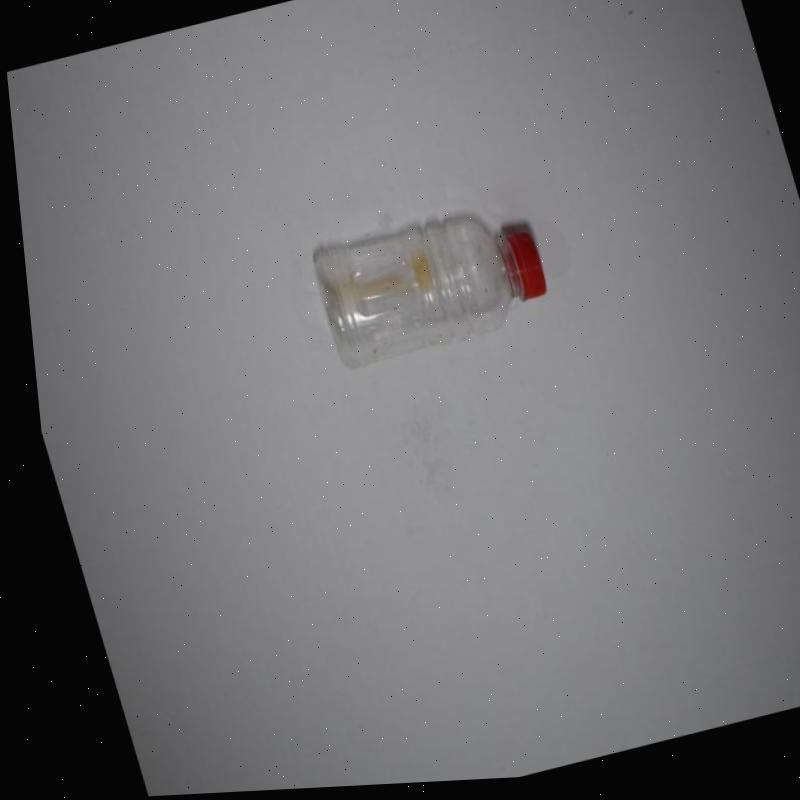botella: (294, 194, 554, 382)
